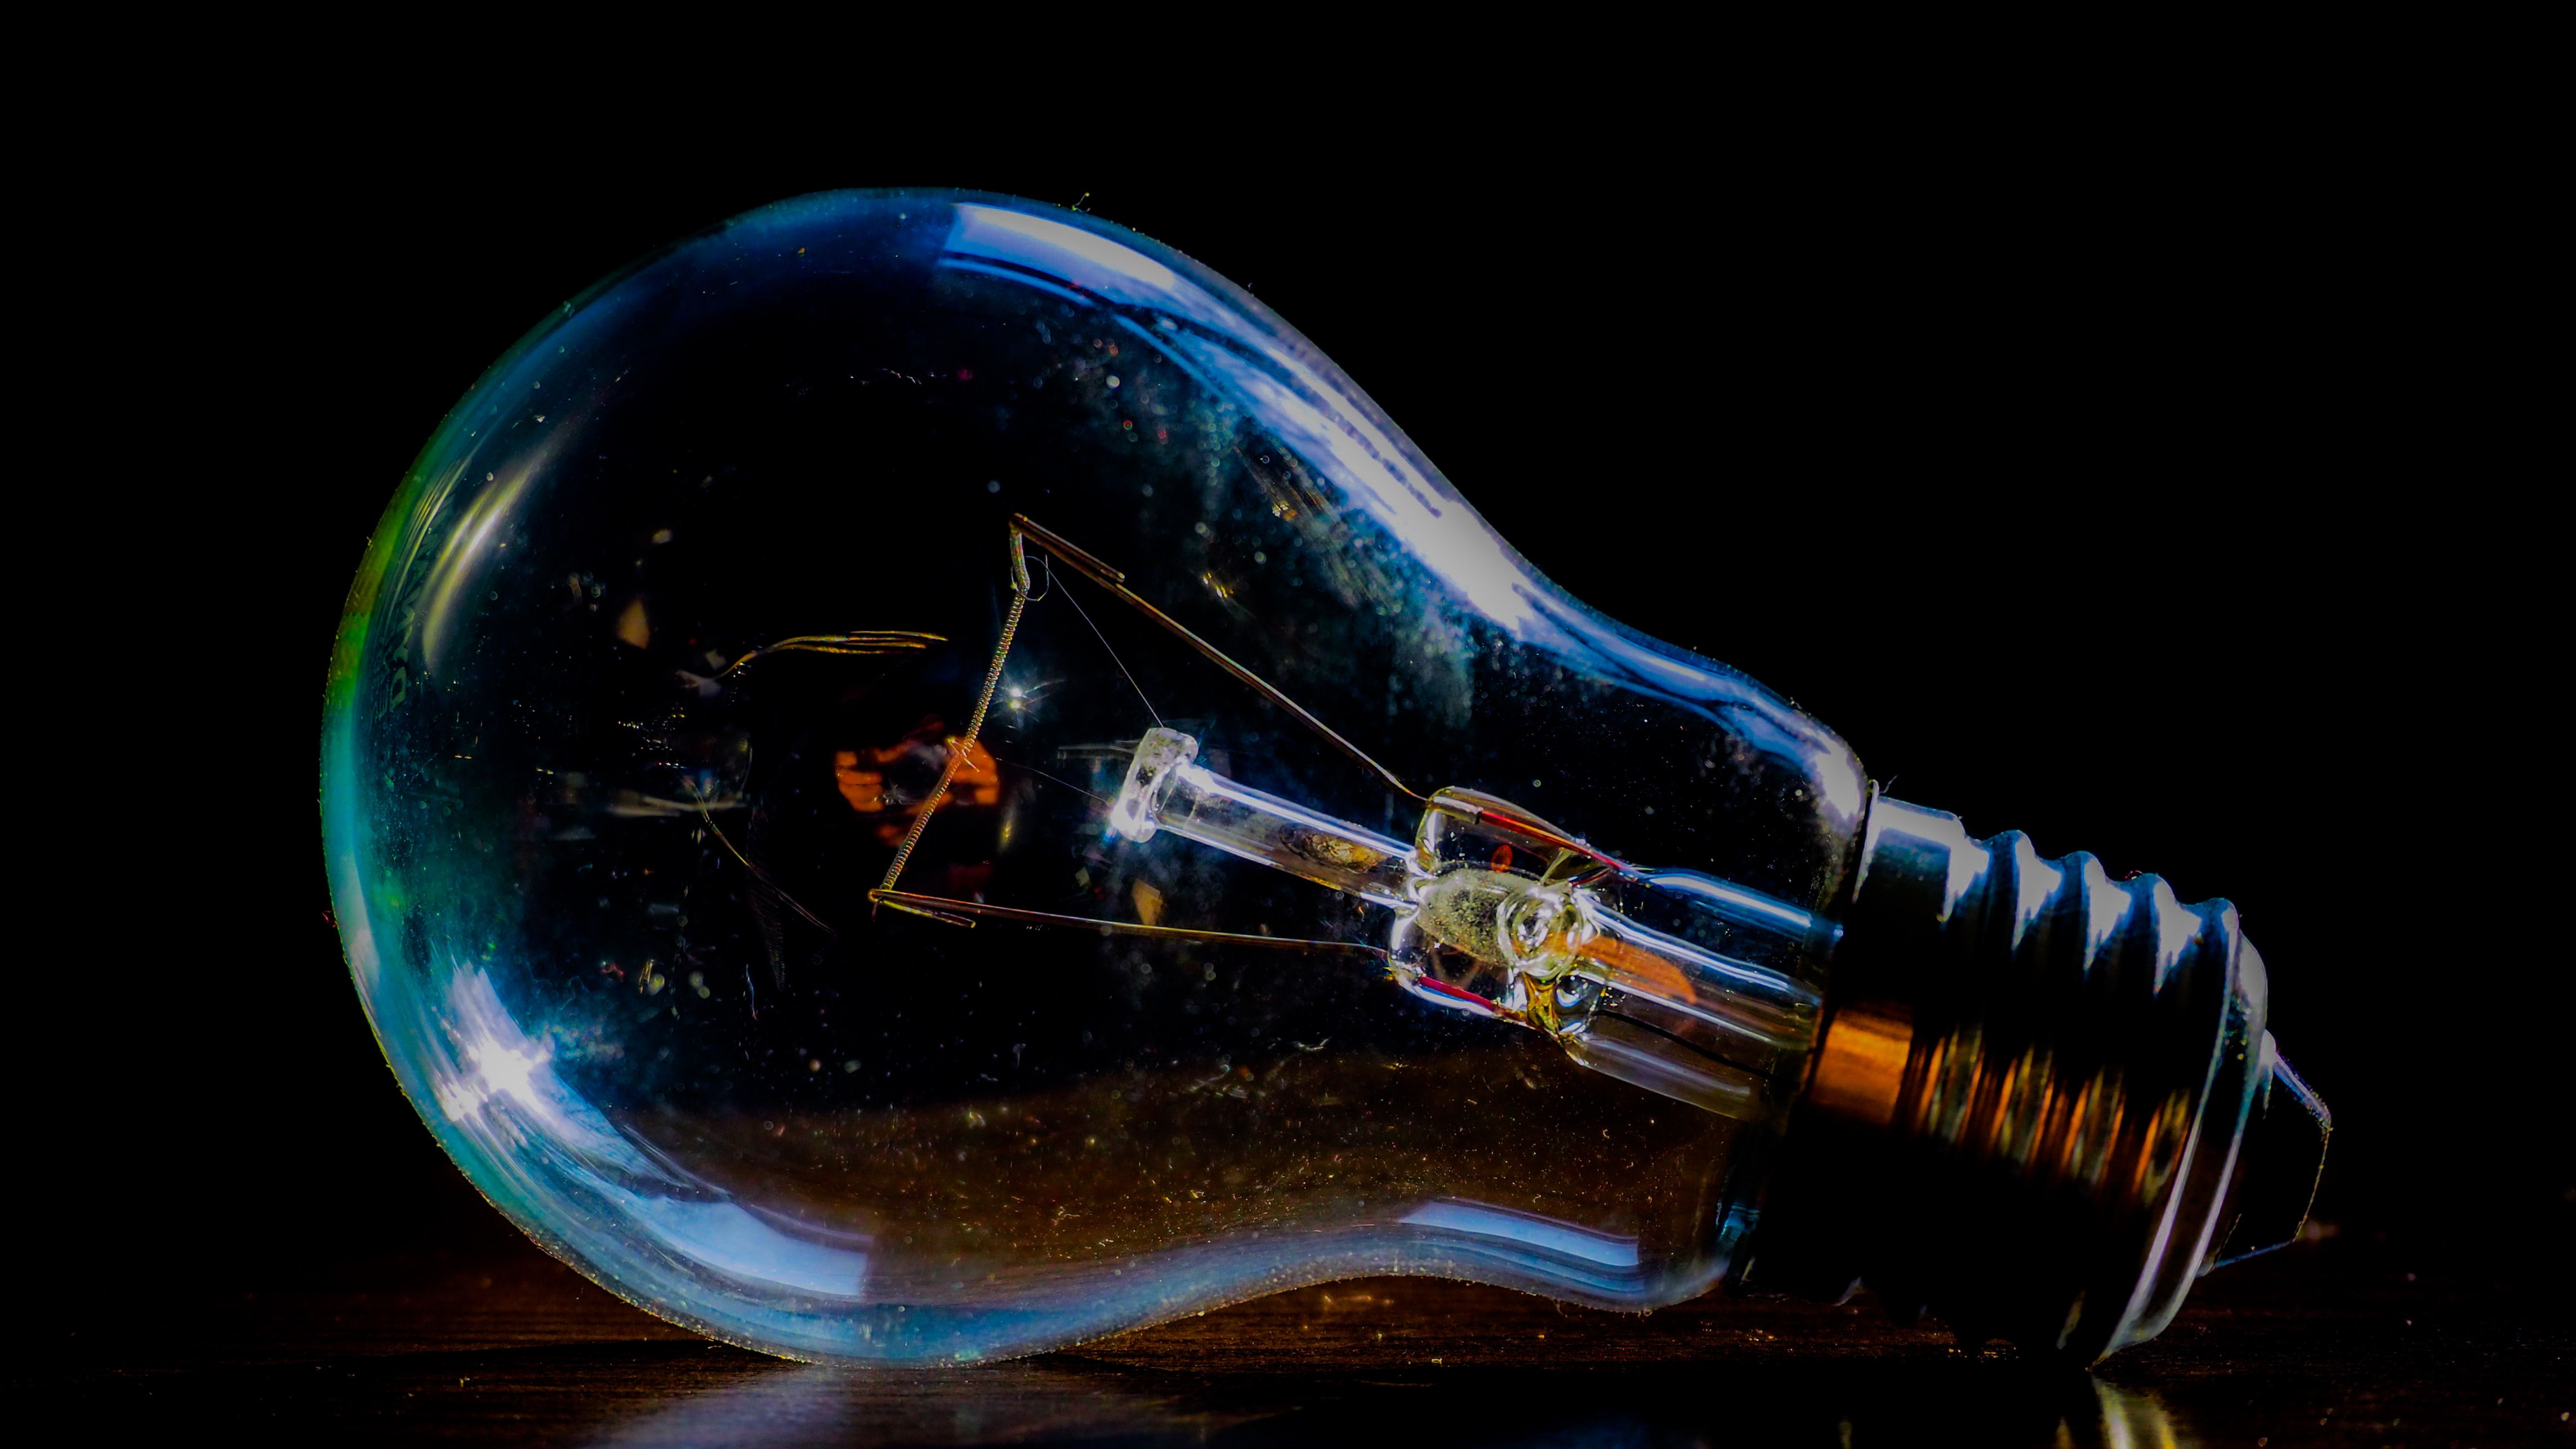bulb: (311, 152, 2392, 1373)
